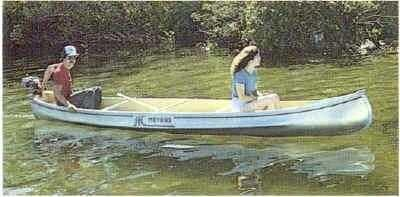kayak: (27, 86, 371, 137)
